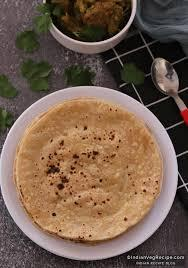roti phulka: (12, 95, 162, 248)
